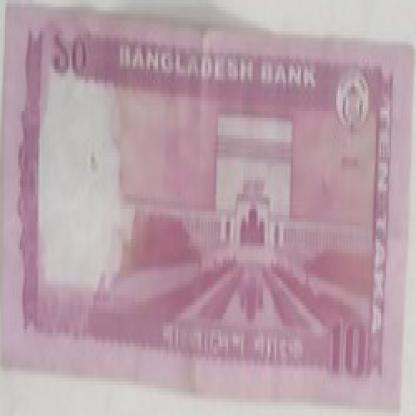Ten Taka: (40, 24, 121, 108), (316, 305, 369, 385)
